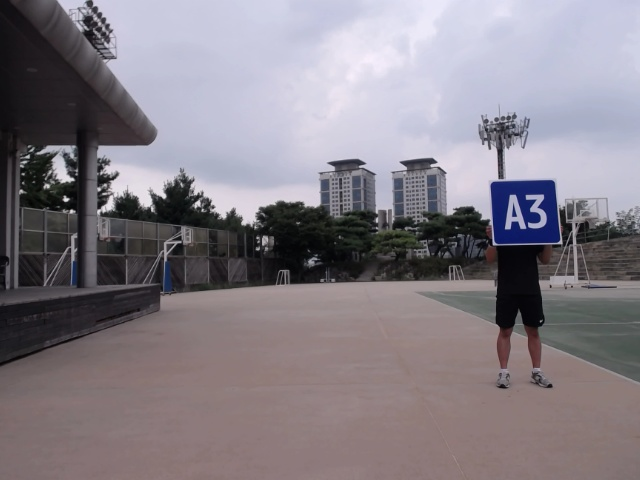delivery_a3: (489, 179, 562, 245)
